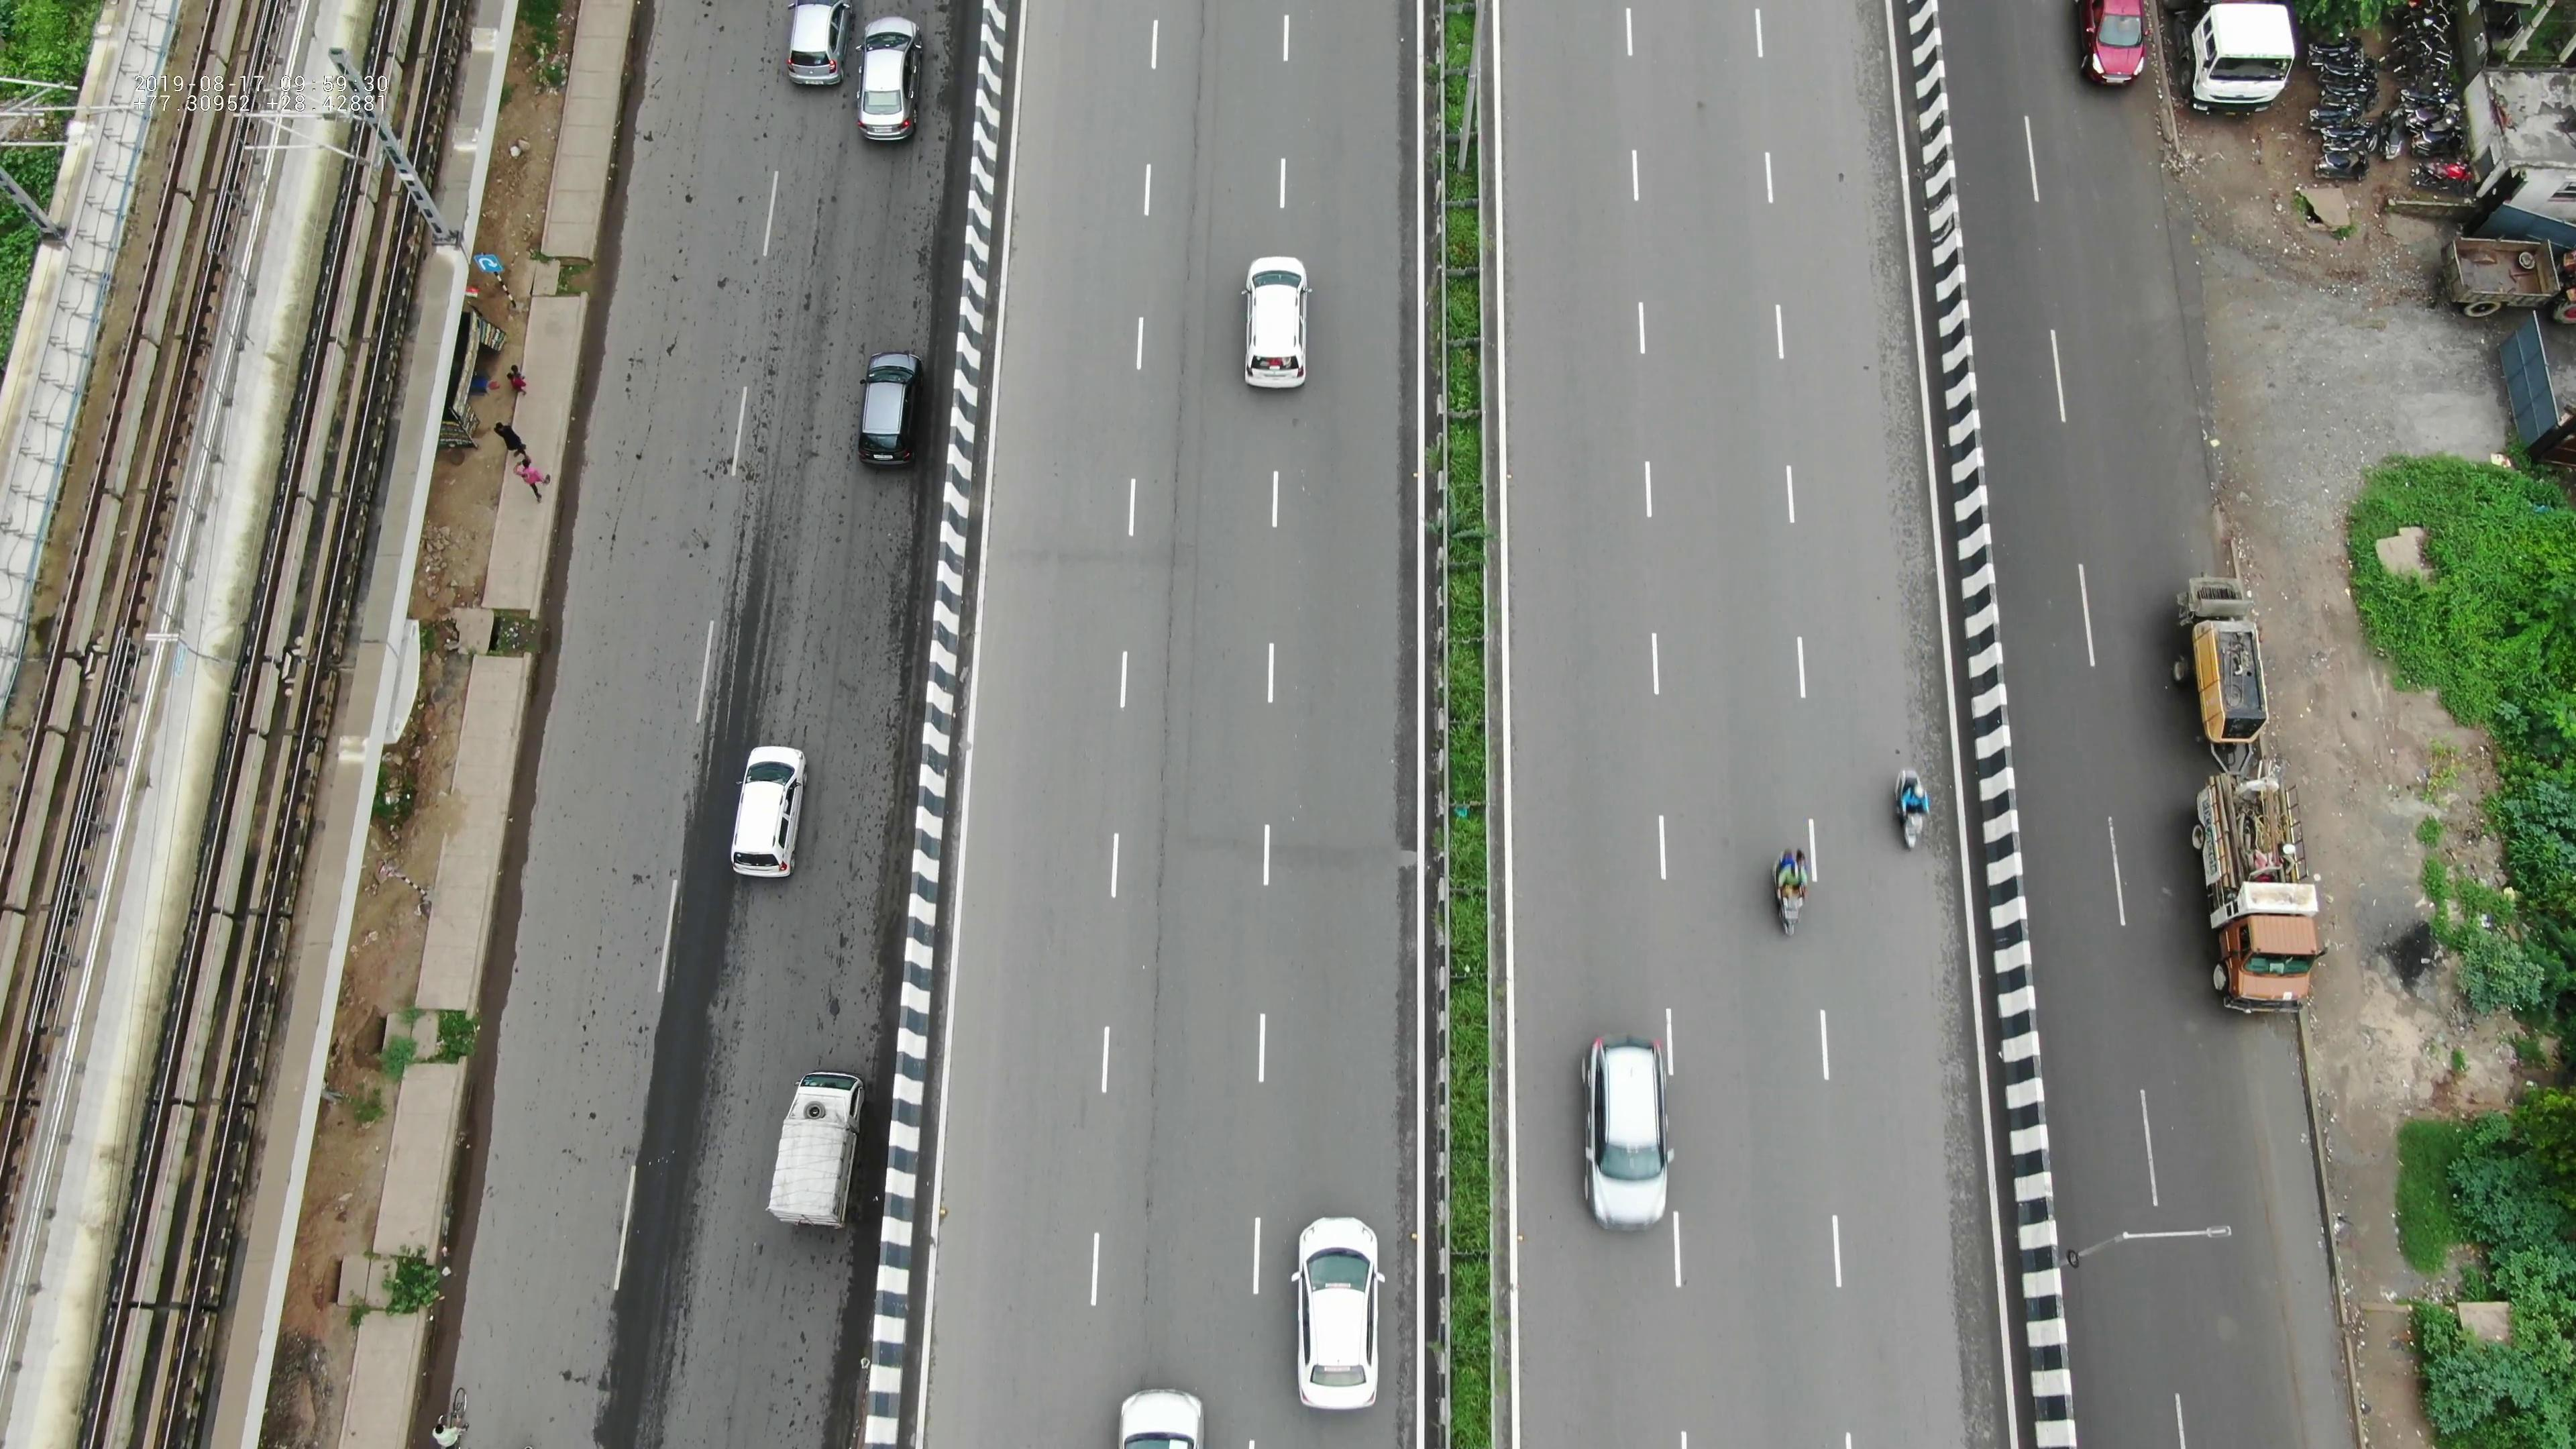Ravelling: (1166, 4, 1230, 246)
